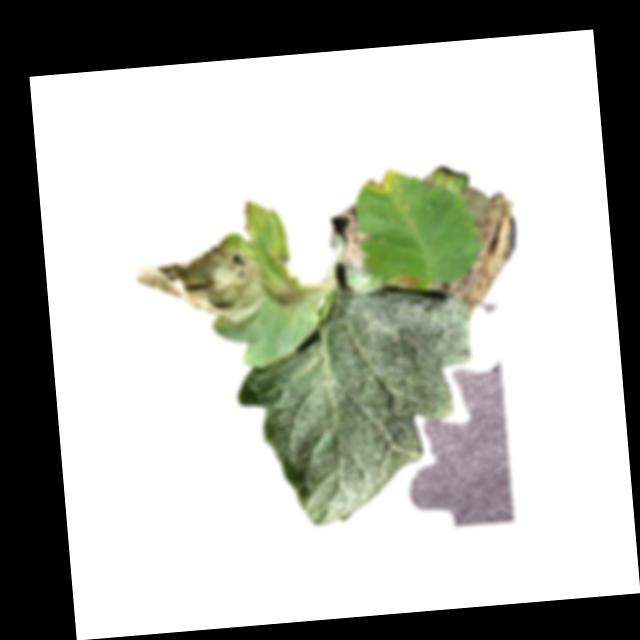Late_blight: (132, 232, 272, 338), (424, 181, 522, 315), (327, 203, 374, 275), (271, 278, 315, 311), (363, 167, 400, 196), (242, 198, 268, 239), (386, 271, 424, 292), (419, 172, 439, 196)
healthy: (230, 284, 486, 532)
